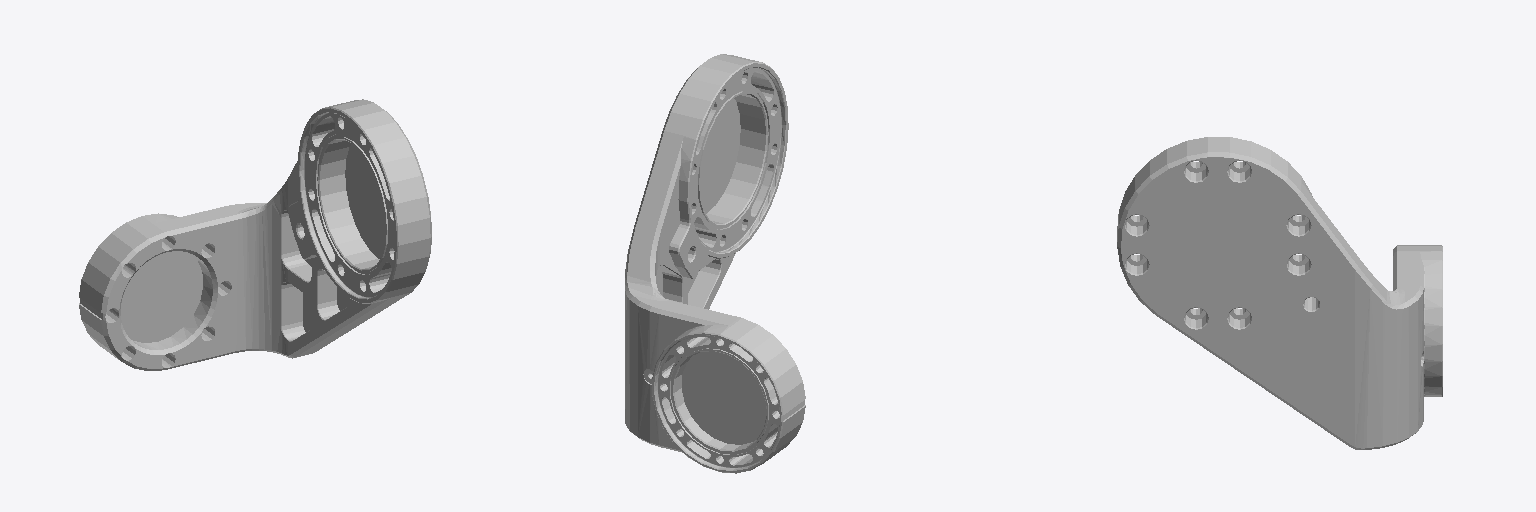
File: right_upper_arm_roll_link.obj
The picture shows the model from 3 angles: view 1: azimuth 30°, elevation 25°; view 2: azimuth 150°, elevation 25°; view 3: azimuth 270°, elevation 25°; orthographic projection.
Parts seen in each view (by area): view 1: right_upper_arm_roll_link; view 2: right_upper_arm_roll_link; view 3: right_upper_arm_roll_link.
Boxes of the visible parts, <box> form: right_upper_arm_roll_link: <box>79,99,431,370</box>; right_upper_arm_roll_link: <box>625,54,805,473</box>; right_upper_arm_roll_link: <box>1117,137,1442,449</box>.
Bounding box in the file's own units: 0.0585 × 0.0864 × 0.0855.